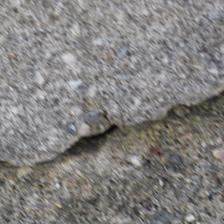Crack: (2, 46, 219, 128)
